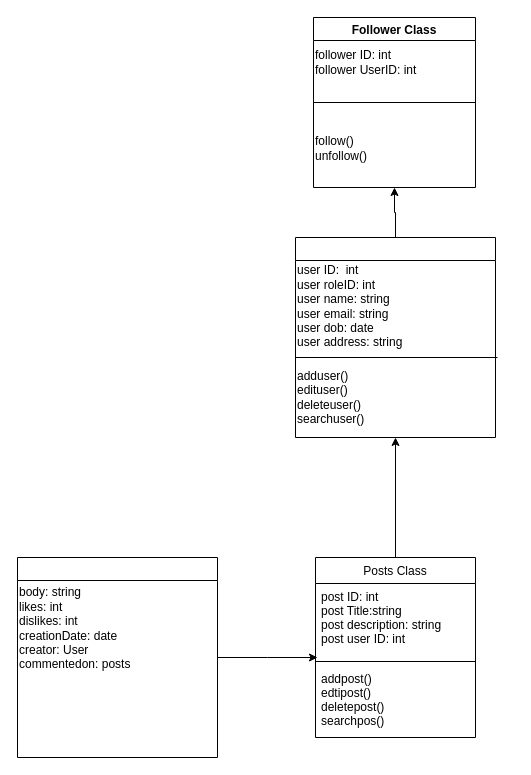
Some shapes in this 531 by 775 pixel diagram are drawn without their labels. The shapes that lost their labels are listed below. From the top down, each one's box as (x1, y1, x2, y2) in pixels, then its label:
(294, 236, 496, 438): User Class
(16, 556, 218, 758): Comments Class
